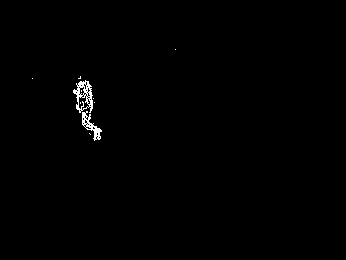person: (69, 79, 108, 142)
